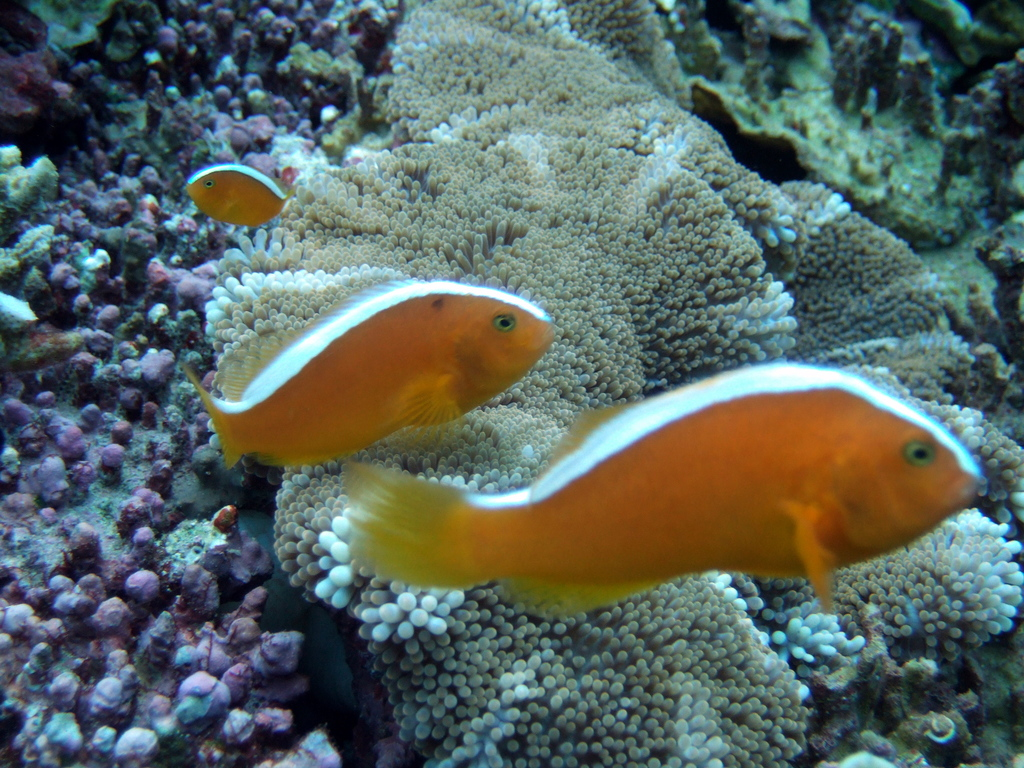Fish: (343, 362, 981, 619), (182, 281, 554, 469), (185, 163, 297, 226)
